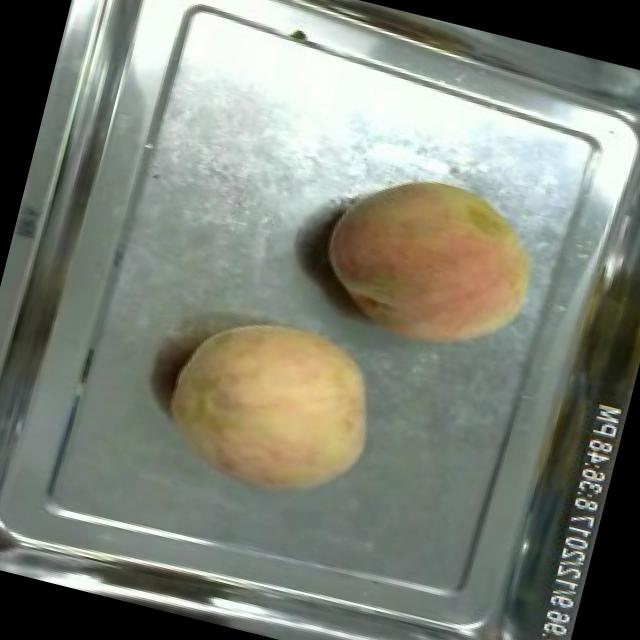Fruit: (299, 147, 562, 376), (145, 290, 399, 520)
